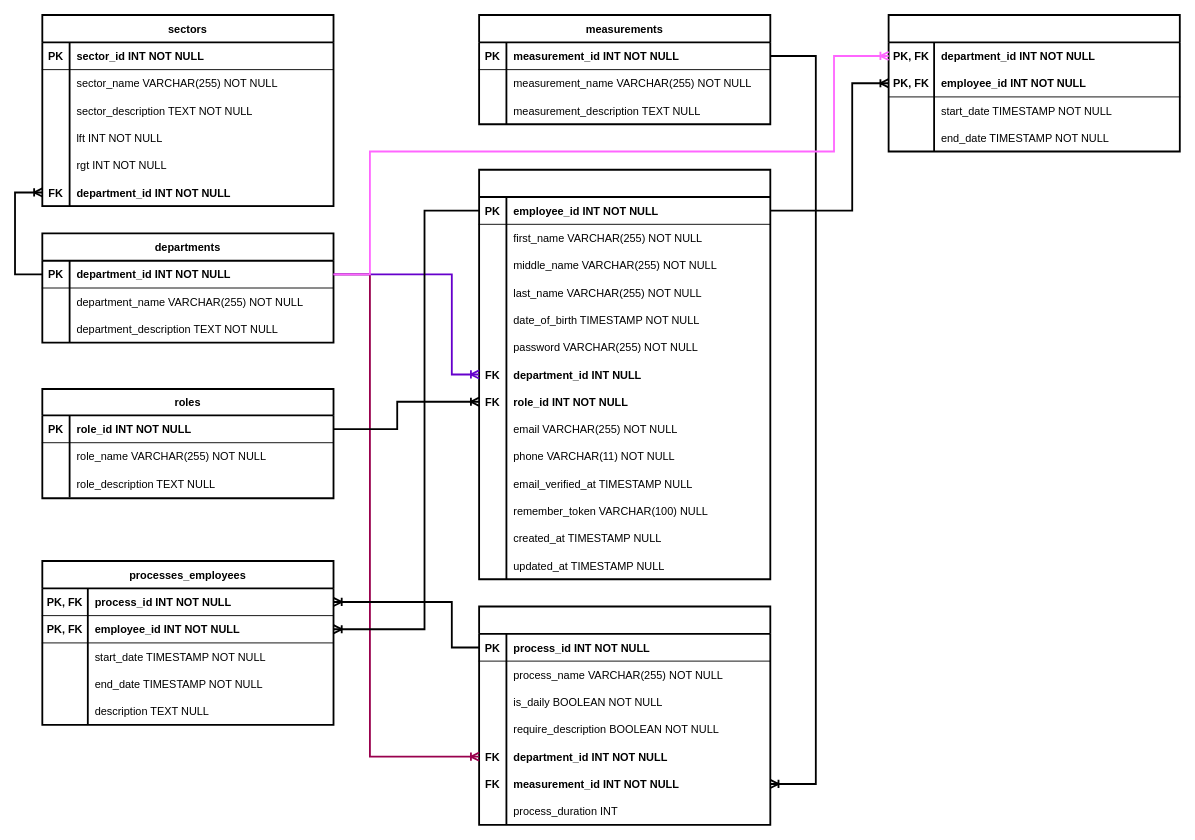
The diagram is 1195 pixels wide and 840 high, and some of its shapes have lost their labels. Here are the shapes that lost their labels. From the top down, the box of each, then its label:
(887, 14, 1180, 152): employees_departments
(478, 168, 771, 580): employees
(478, 605, 771, 825): processes
